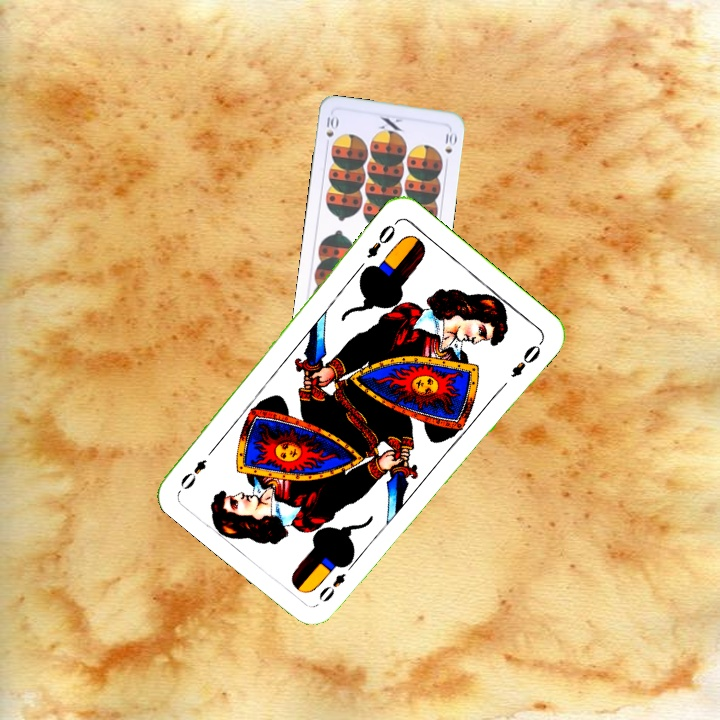EO: (314, 556, 358, 605), (362, 217, 401, 261)
S10: (322, 112, 340, 150)
